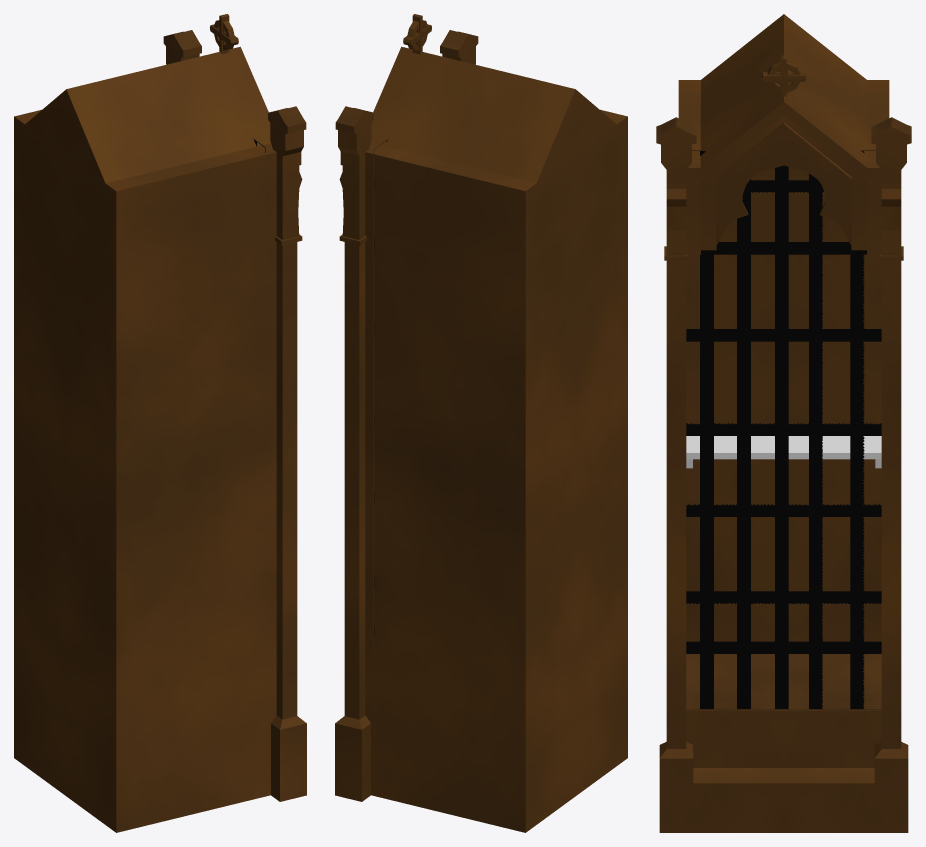
File: Transparency test.fbx
3 renders of one model, left to right at view 1: azimuth 30°, elevation 25°; view 2: azimuth 150°, elevation 25°; view 3: azimuth 270°, elevation 25°, orthographic. The views are drawn at different scales.
Parts seen in each view (by area): view 1: Cube.004, Cube.006; view 2: Cube.004, Plane, Cube.006; view 3: Cube.004, Plane, Cube.005, Cube.006.
Part boxes in pixels (<box>): Cube.004: <box>14,30,306,832</box>; Cube.006: <box>210,14,238,54</box>; Cube.004: <box>335,30,627,832</box>; Plane: <box>373,138,388,691</box>; Cube.006: <box>403,14,431,54</box>; Cube.004: <box>656,14,911,832</box>; Plane: <box>686,150,881,709</box>; Cube.005: <box>686,436,881,468</box>; Cube.006: <box>762,55,806,96</box>.
Size of the model in its own units: 600 by 2346 by 710.
